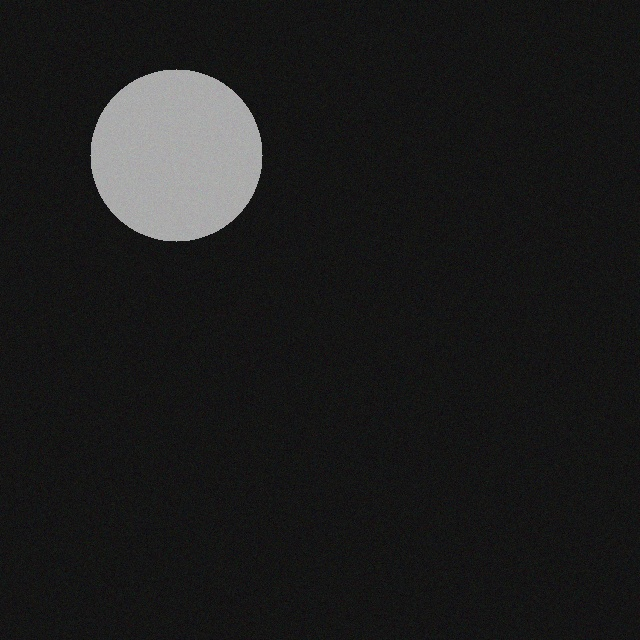circle: (82, 71, 254, 243)
